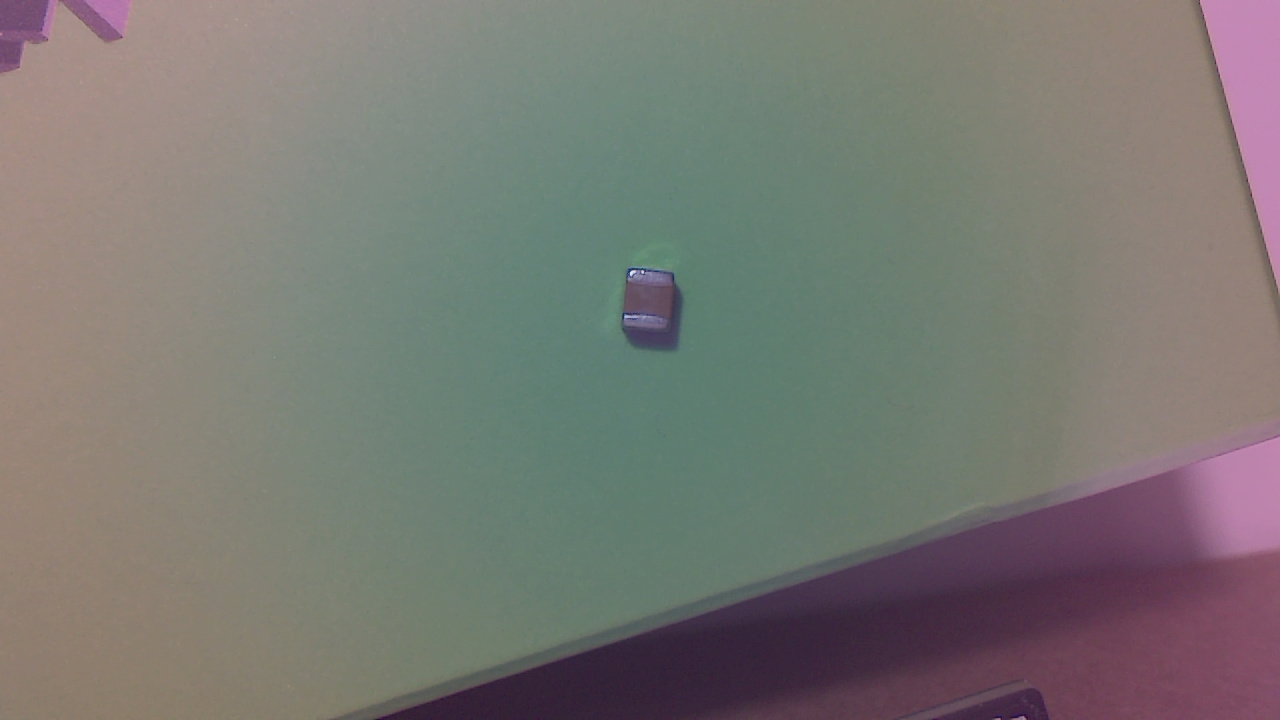Condensator: (624, 271, 685, 348)
